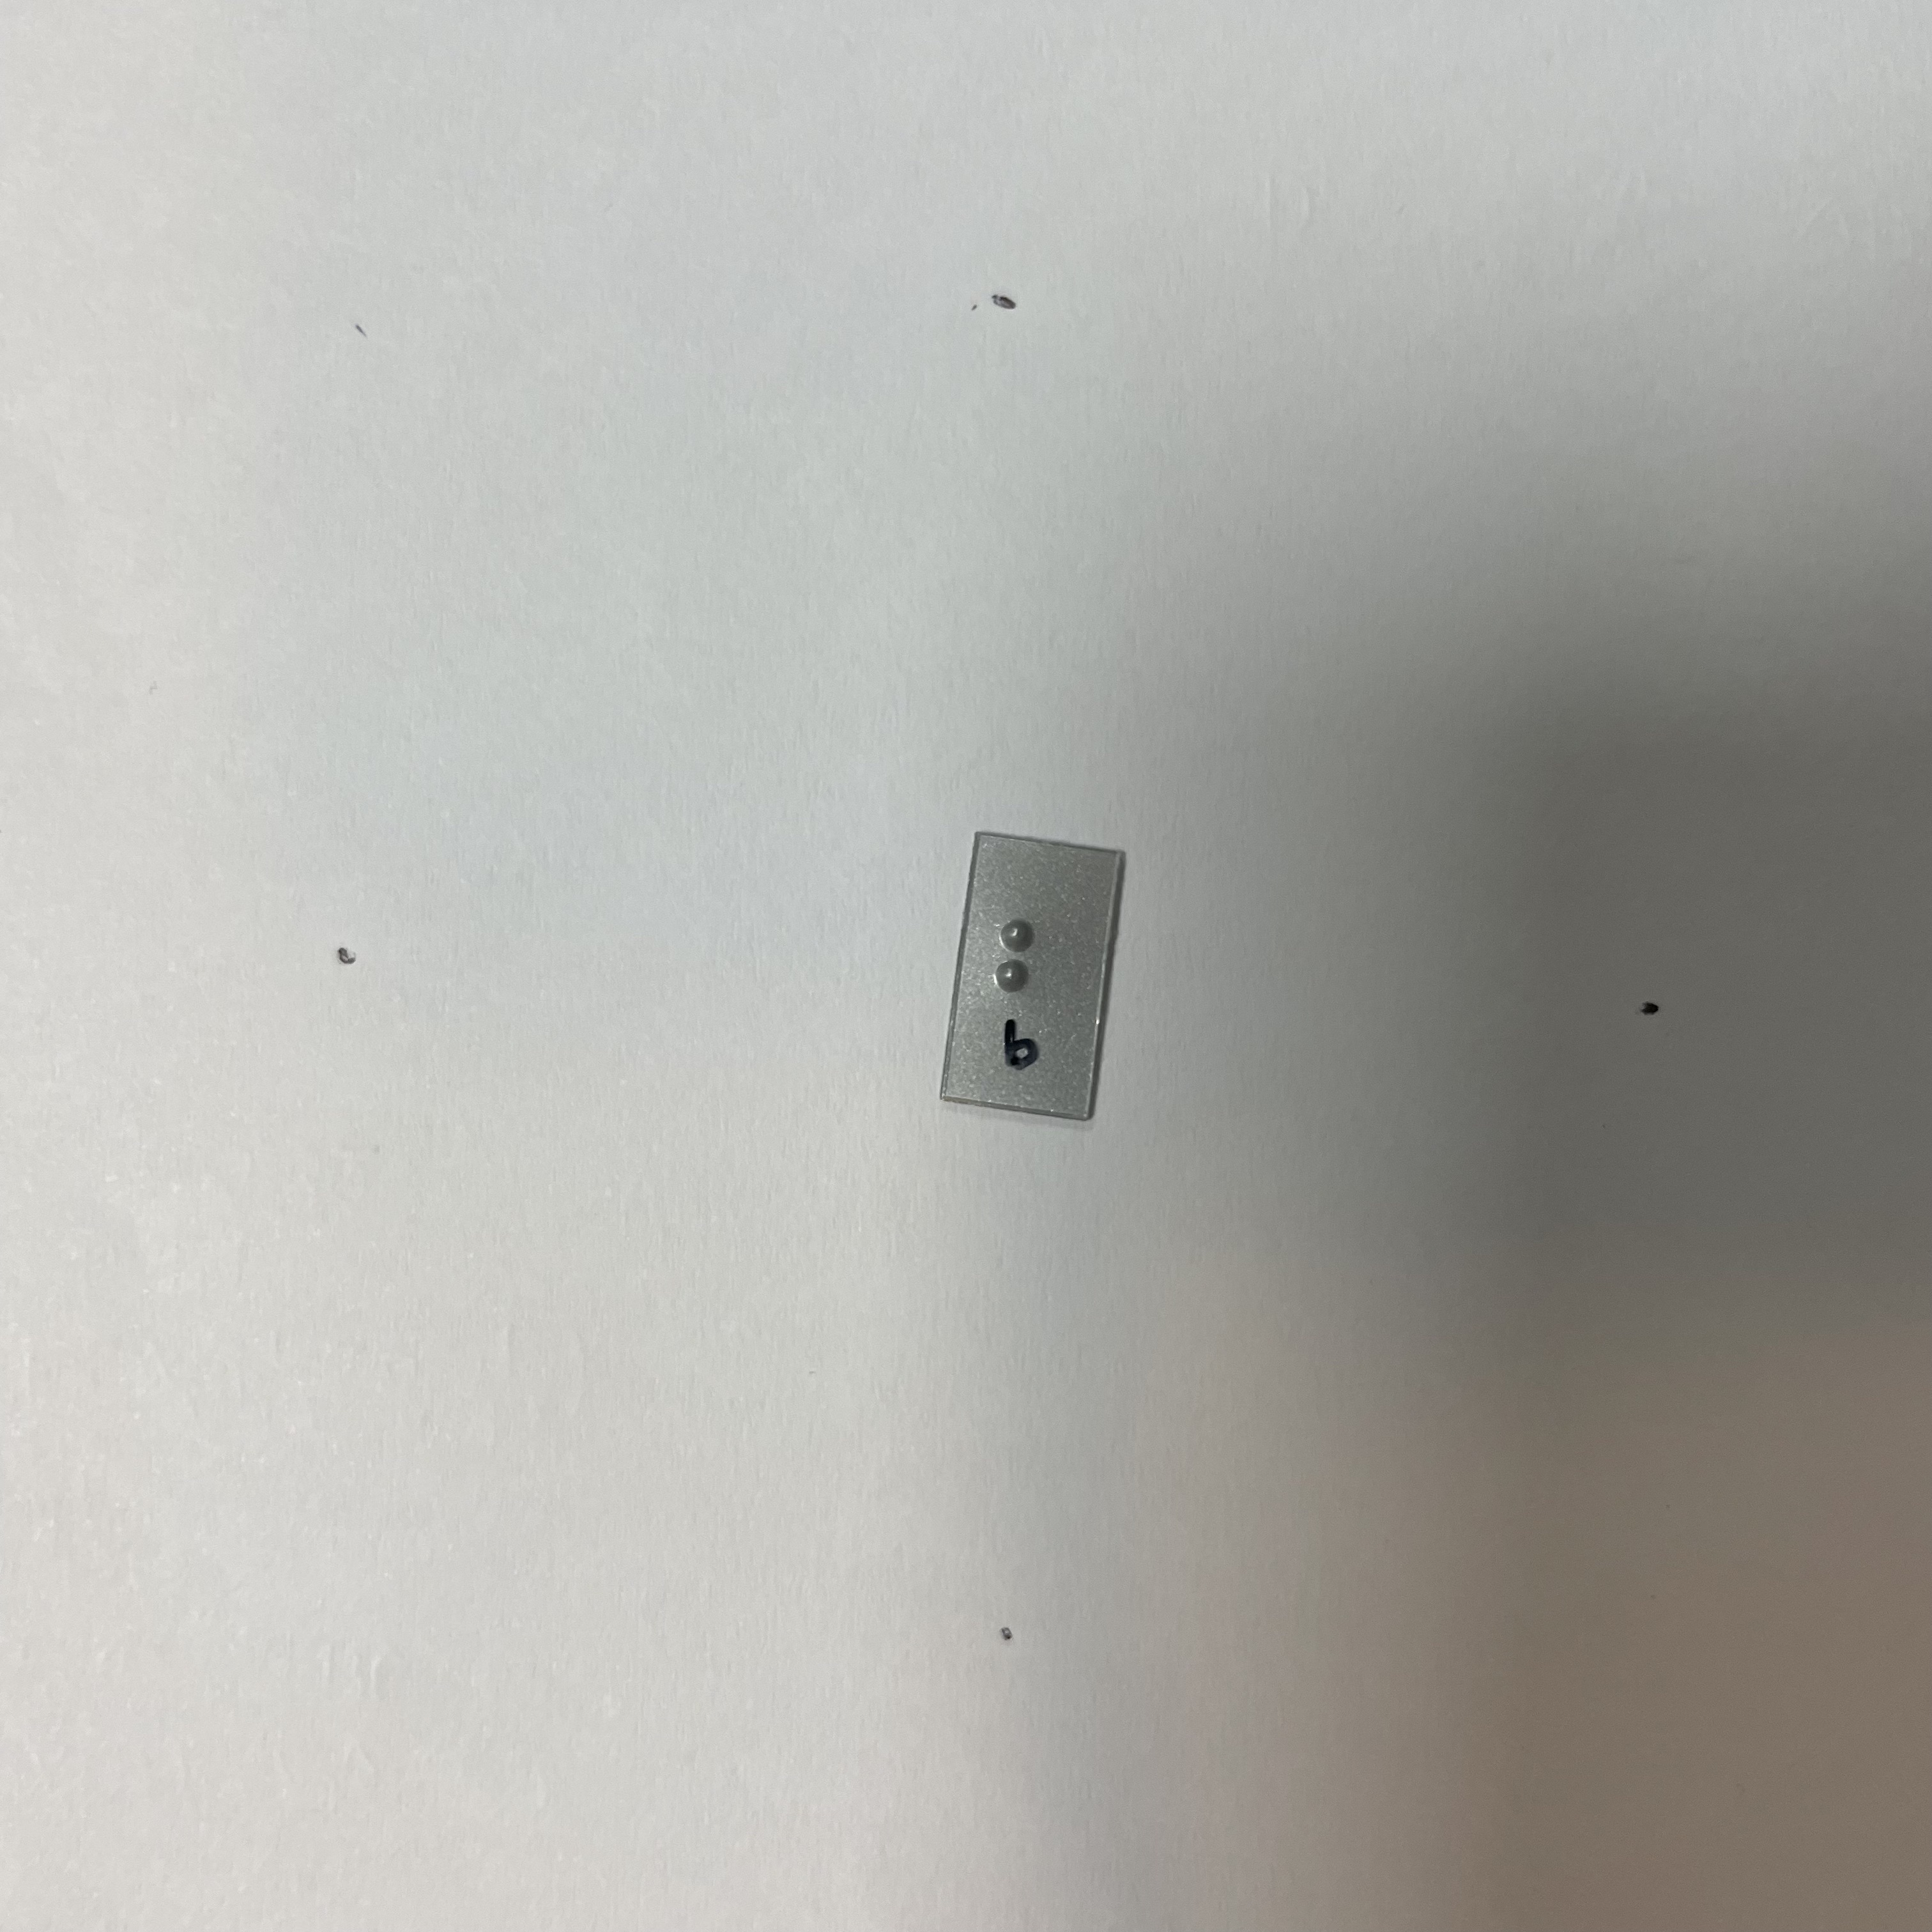b: (985, 893, 1077, 1022)
